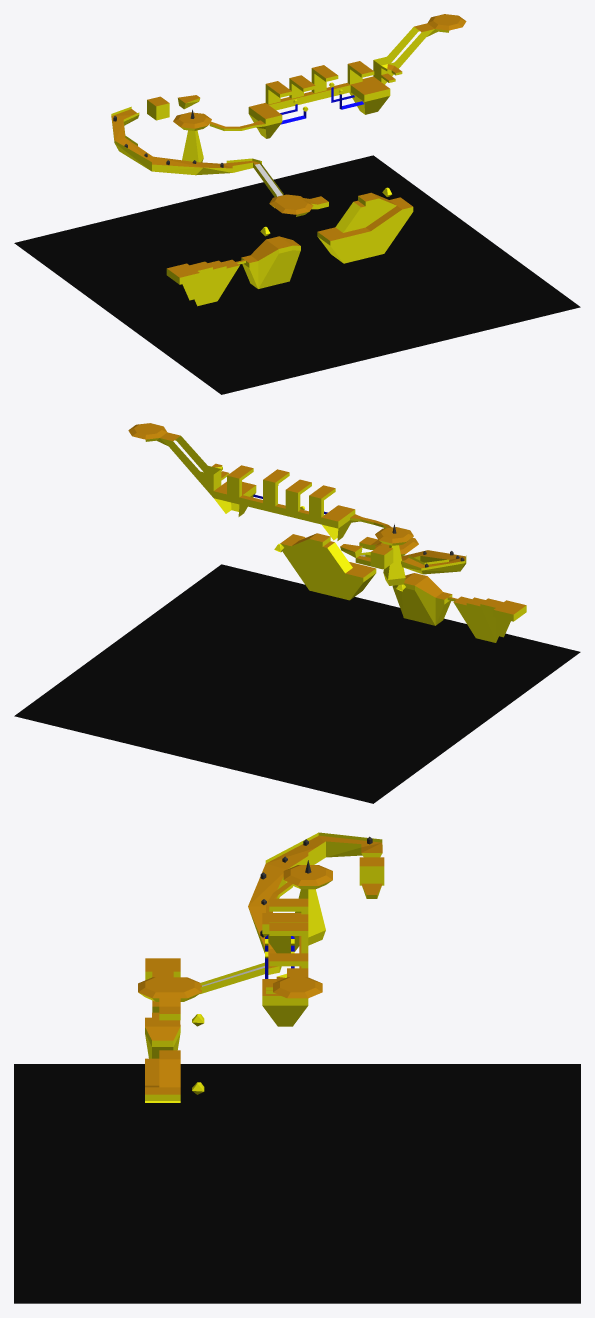
Rendered from bidw_segment7.0x0D460.collision.obj.
The picture shows the model from 3 angles, top to bottom: view 1: azimuth 30°, elevation 25°; view 2: azimuth 150°, elevation 25°; view 3: azimuth 270°, elevation 25°; orthographic projection. The views are drawn at different scales.
Visible parts, largest first — view 1: bidw_segment7_0D460_deathfloor, bidw_segment7_0D460_normal, bidw_segment7_0D460_climbable; view 2: bidw_segment7_0D460_deathfloor, bidw_segment7_0D460_normal, bidw_segment7_0D460_climbable; view 3: bidw_segment7_0D460_deathfloor, bidw_segment7_0D460_climbable, bidw_segment7_0D460_normal.
Boxes of the visible parts, x1=… form: bidw_segment7_0D460_deathfloor: x1=14, y1=155, x2=580, y2=394; bidw_segment7_0D460_normal: x1=111, y1=27, x2=448, y2=306; bidw_segment7_0D460_climbable: x1=111, y1=14, x2=466, y2=277; bidw_segment7_0D460_deathfloor: x1=14, y1=564, x2=580, y2=803; bidw_segment7_0D460_normal: x1=145, y1=436, x2=526, y2=642; bidw_segment7_0D460_climbable: x1=128, y1=423, x2=526, y2=614; bidw_segment7_0D460_deathfloor: x1=14, y1=1064, x2=580, y2=1303; bidw_segment7_0D460_climbable: x1=138, y1=835, x2=384, y2=1094; bidw_segment7_0D460_normal: x1=139, y1=832, x2=384, y2=1102.
Size of the model in its own units: 16 by 9.3 by 16.
